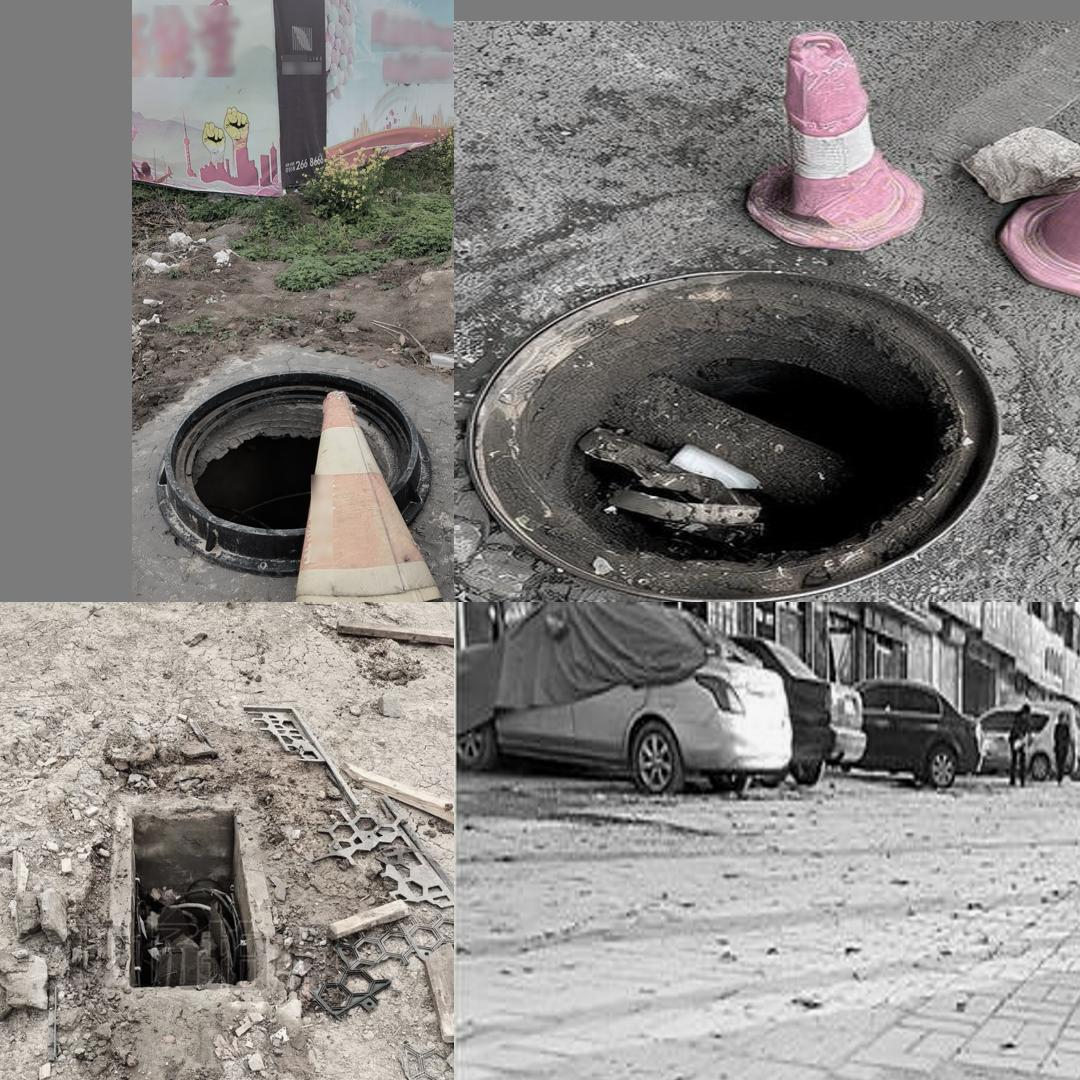lose: (471, 276, 1049, 600), (158, 369, 431, 580), (123, 808, 262, 993)
